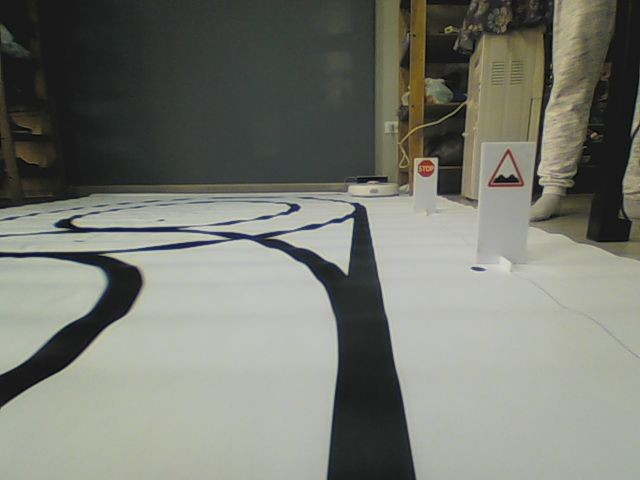Stop: (417, 161, 436, 178)
